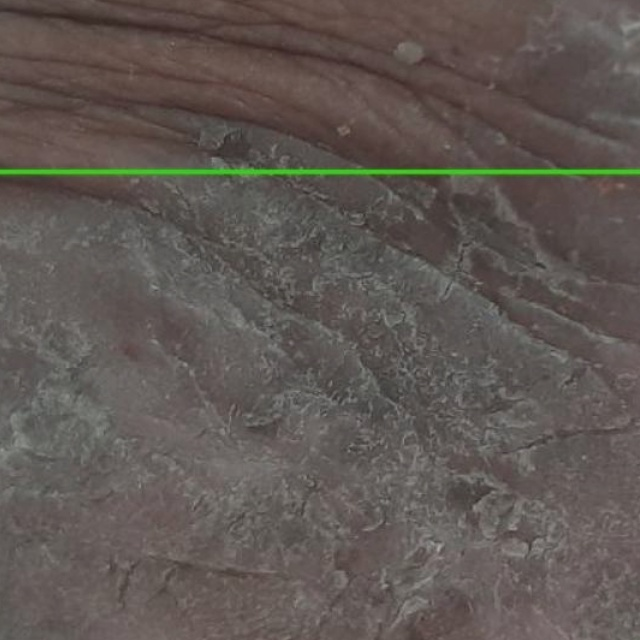Eczema: (0, 173, 639, 639)
